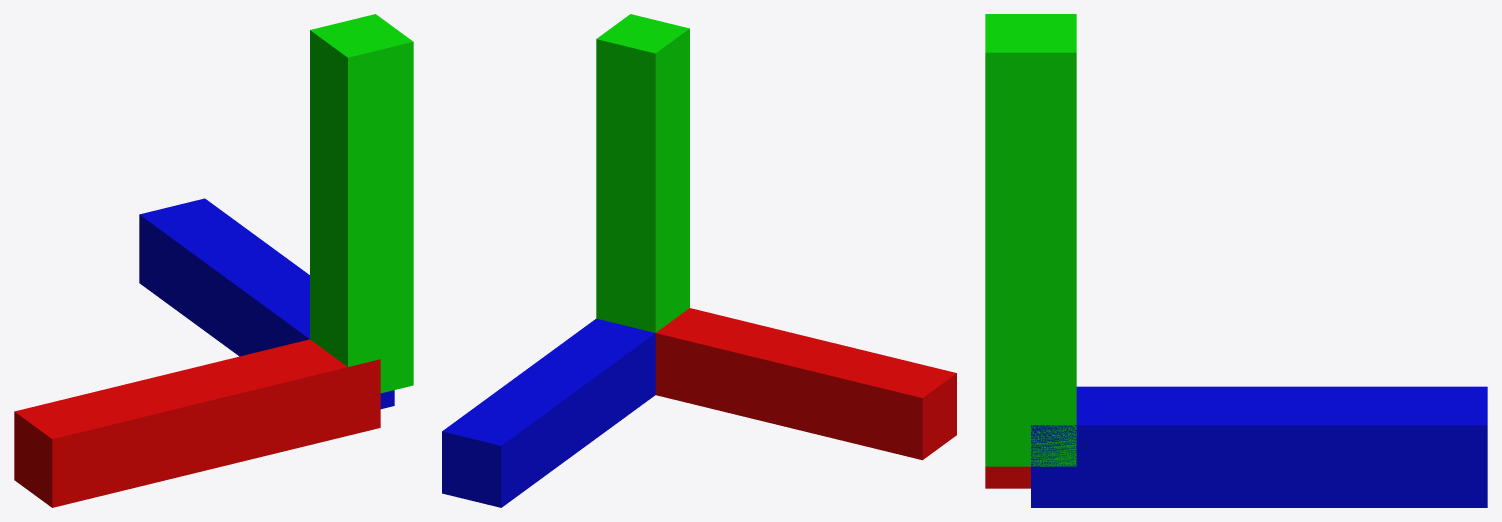
File: xyz_arrow.fbx
3 renders of one model, left to right at view 1: azimuth 30°, elevation 25°; view 2: azimuth 150°, elevation 25°; view 3: azimuth 270°, elevation 25°, orthographic. The views are drawn at different scales.
Visible parts, largest first — view 1: Cube, Cube.001, Cube.002; view 2: Cube.001, Cube, Cube.002; view 3: Cube.002, Cube.001, Cube.
Part boxes in pixels (x1=…): Cube: x1=14, y1=339, x2=380, y2=507; Cube.001: x1=310, y1=14, x2=413, y2=393; Cube.002: x1=139, y1=198, x2=394, y2=409; Cube.001: x1=596, y1=14, x2=689, y2=332; Cube: x1=655, y1=308, x2=956, y2=460; Cube.002: x1=442, y1=318, x2=655, y2=507; Cube.002: x1=1031, y1=386, x2=1487, y2=507; Cube.001: x1=985, y1=14, x2=1076, y2=466; Cube: x1=985, y1=466, x2=1030, y2=488.
Size of the model in its own units: 11 by 11 by 11.
